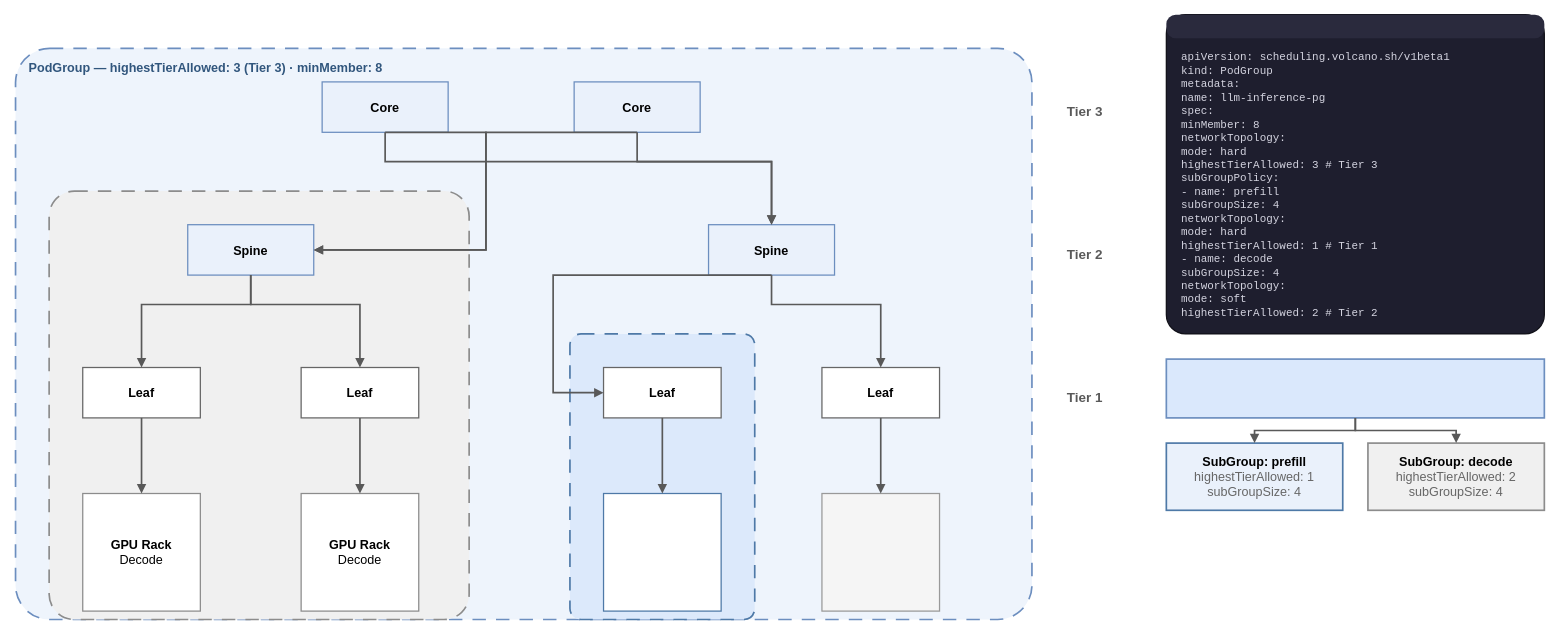
Some shapes in this 1559 by 635 pixel diagram are drawn without their labels. Each missing label, with the box of its shape:
GPU Rack Available capacity: (821, 492, 940, 611)
GPU Rack Prefill: (603, 492, 721, 611)
PodGroup highestTierAllowed: 3 · minMember: 8: (1165, 358, 1545, 418)
PodGroup manifest (excerpt): (1166, 14, 1544, 38)
SubGroup: decode — highestTierAllowed: 2 · subGroupSize: 4: (48, 190, 470, 620)
SubGroup: prefill — highestTierAllowed: 1 · subGroupSize: 4: (569, 333, 755, 620)
